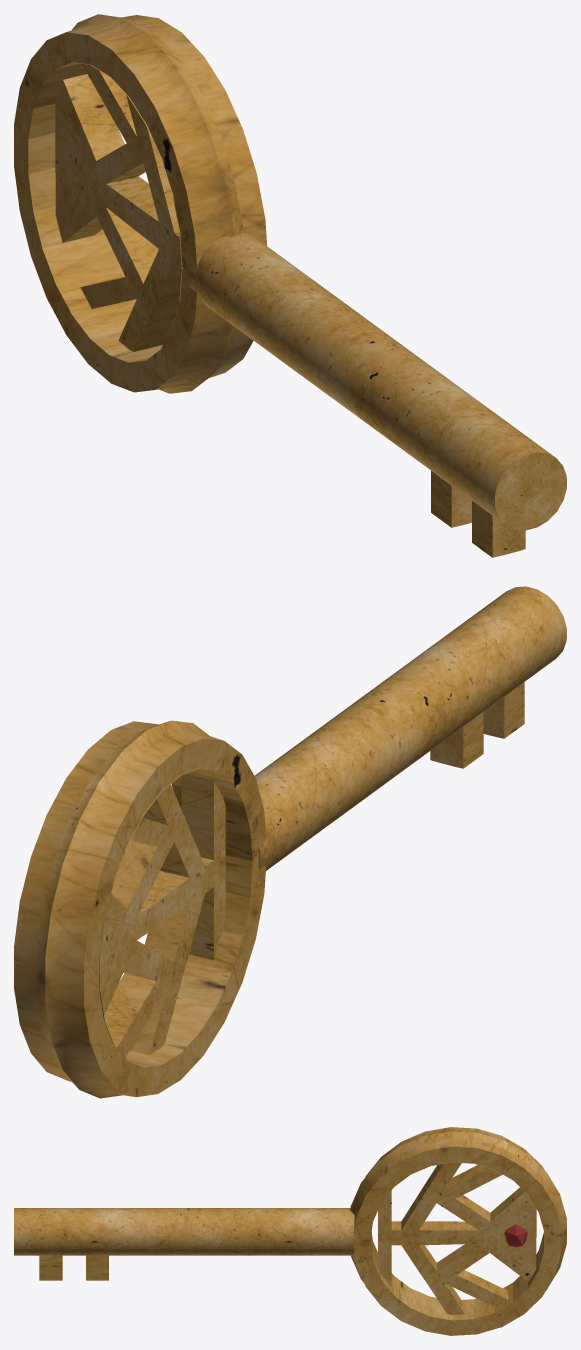
Rendered from chaveseita.fbx.
The picture shows the model from 3 angles, top to bottom: view 1: azimuth 30°, elevation 25°; view 2: azimuth 150°, elevation 25°; view 3: azimuth 270°, elevation 25°; orthographic projection. The views are drawn at different scales.
Visible parts, largest first — view 1: brazaopchave:pCylinder1, pCylinder1, brazaopchave:pCube1; view 2: brazaopchave:pCylinder1, pCylinder1, brazaopchave:pCube1; view 3: pCylinder1, brazaopchave:pCylinder1, brazaopchave:pCube1, brazaopchave:pPlatonic1.
Boxes of the visible parts, <box> form: brazaopchave:pCylinder1: <box>14,14,267,393</box>; pCylinder1: <box>187,233,566,557</box>; brazaopchave:pCube1: <box>55,64,181,351</box>; brazaopchave:pCylinder1: <box>14,720,266,1098</box>; pCylinder1: <box>254,586,566,870</box>; brazaopchave:pCube1: <box>100,774,225,1057</box>; pCylinder1: <box>14,1208,354,1280</box>; brazaopchave:pCylinder1: <box>350,1127,566,1335</box>; brazaopchave:pCube1: <box>378,1162,536,1314</box>; brazaopchave:pPlatonic1: <box>504,1224,527,1246</box>.
Bounding box in the file's own units: 0.7325 × 3.36 × 8.45.
